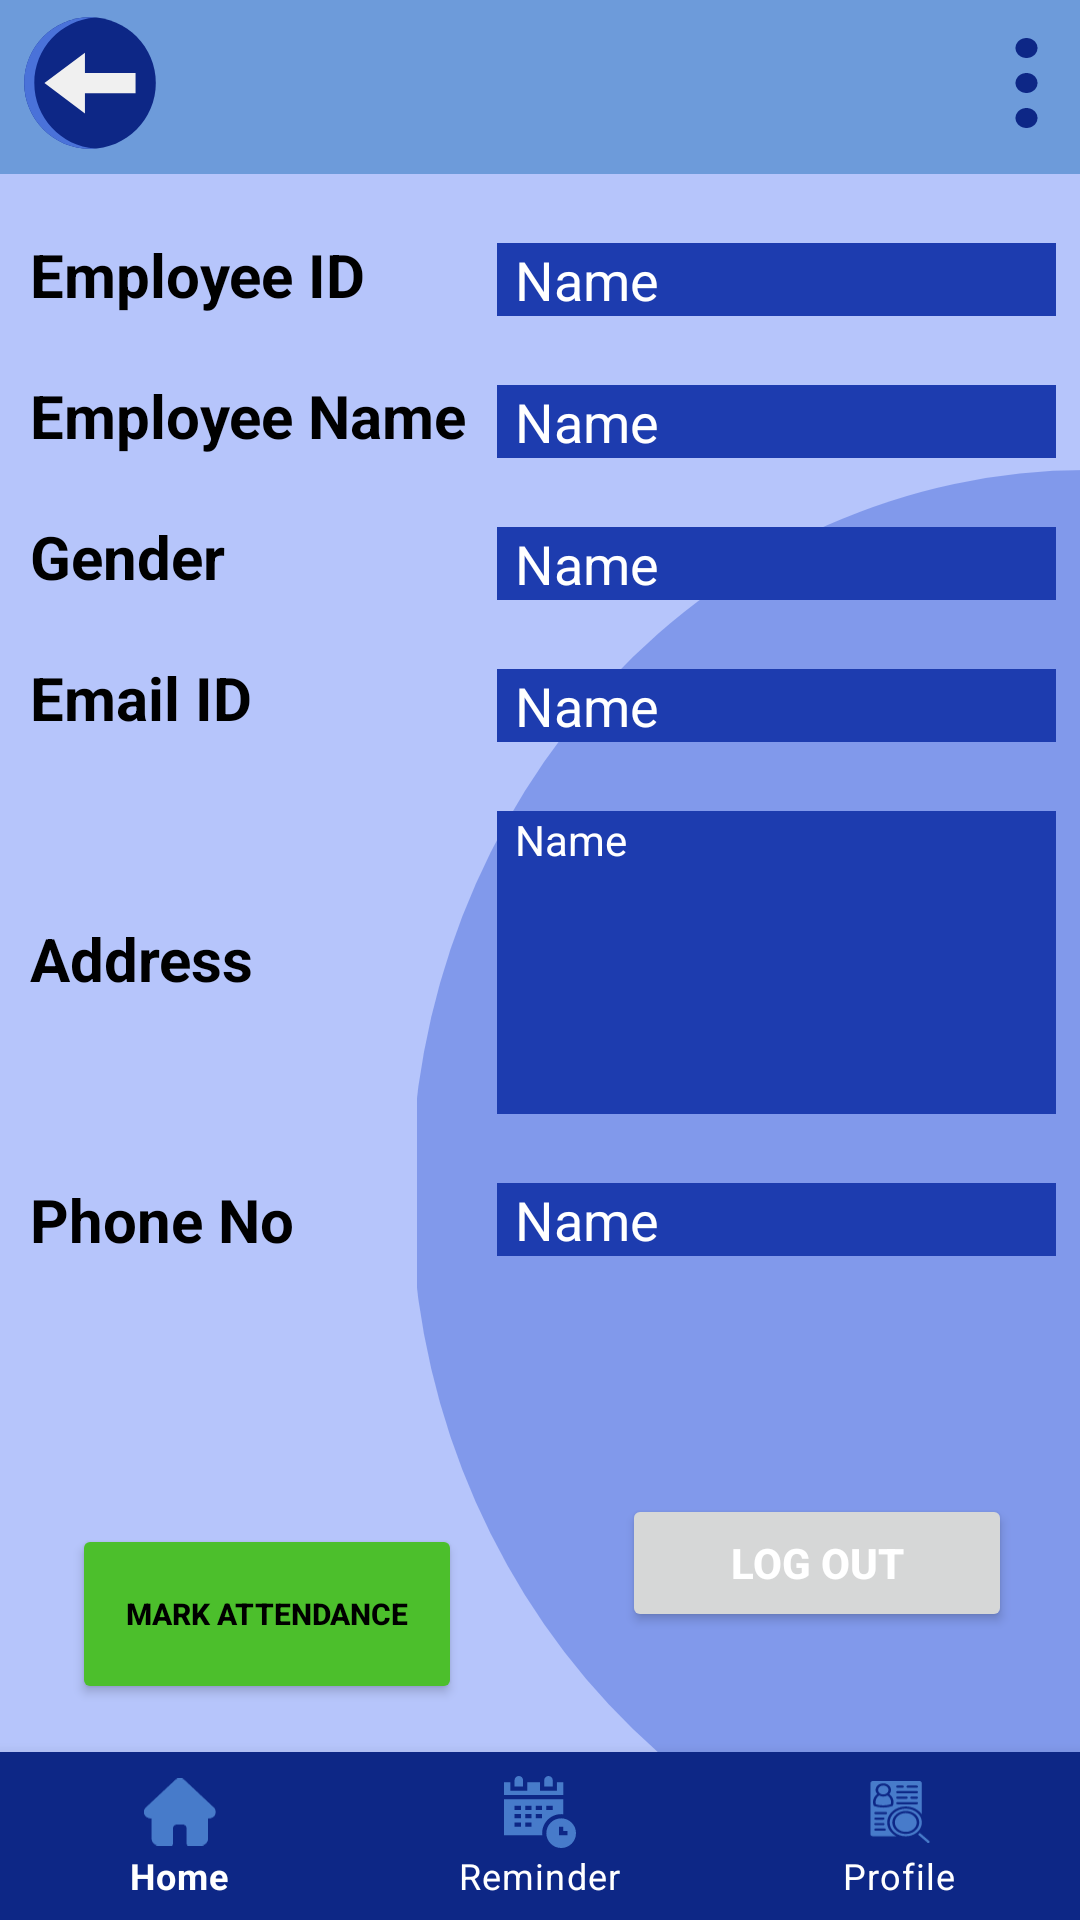

Icons on this 1080×1920 Android screen, each with its box as (x1=x1, y1=y1, x2=x2, y2=y2):
back: (x1=24, y1=17, x2=156, y2=149)
more: (x1=1015, y1=38, x2=1038, y2=128)
